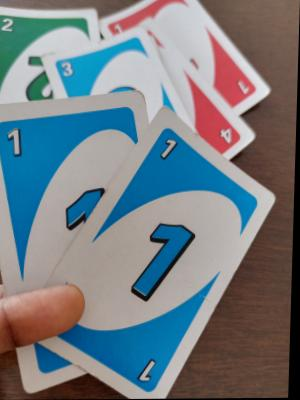num_1: (131, 356, 164, 386), (4, 126, 28, 160), (156, 136, 181, 160)
num_2: (0, 17, 20, 33)
num_3: (60, 62, 76, 78)
num_4: (216, 122, 241, 149)
